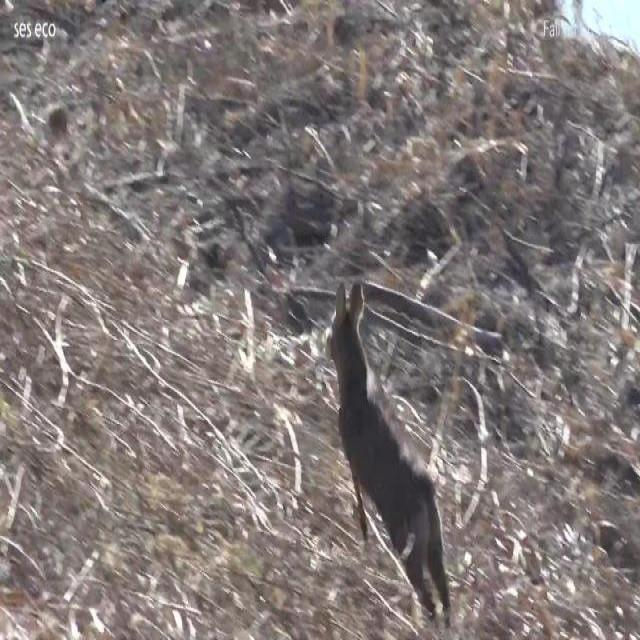deer: (321, 280, 452, 620)
